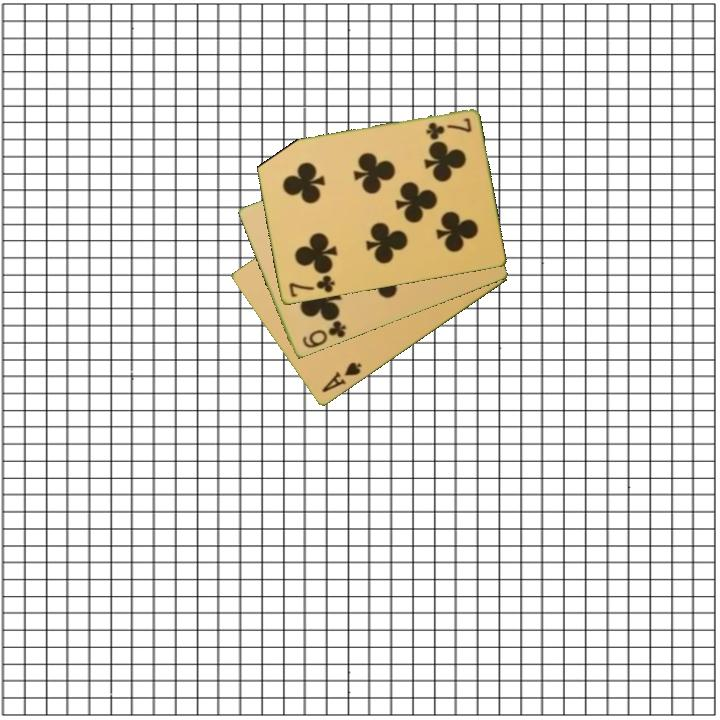6c: (299, 317, 349, 351)
7c: (285, 272, 338, 301), (422, 115, 474, 142)
As: (318, 359, 364, 396)
